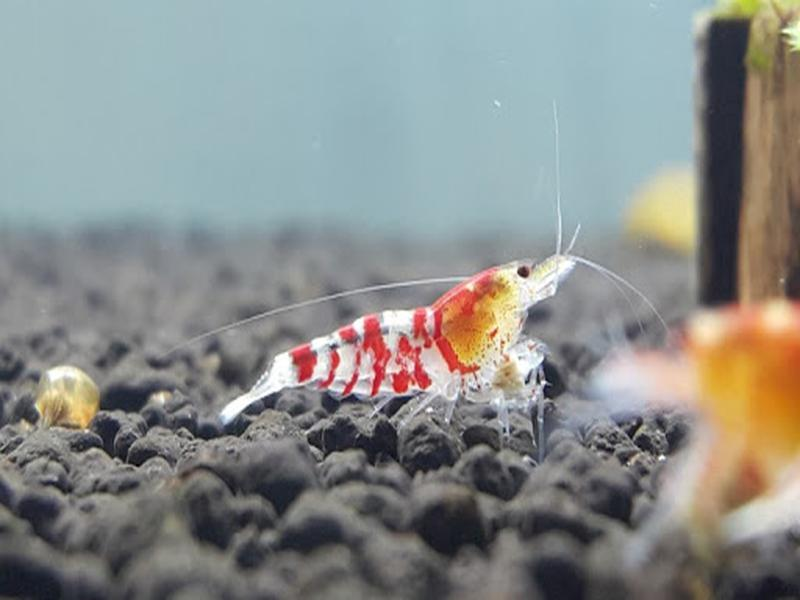shrimp: (222, 252, 575, 404)
